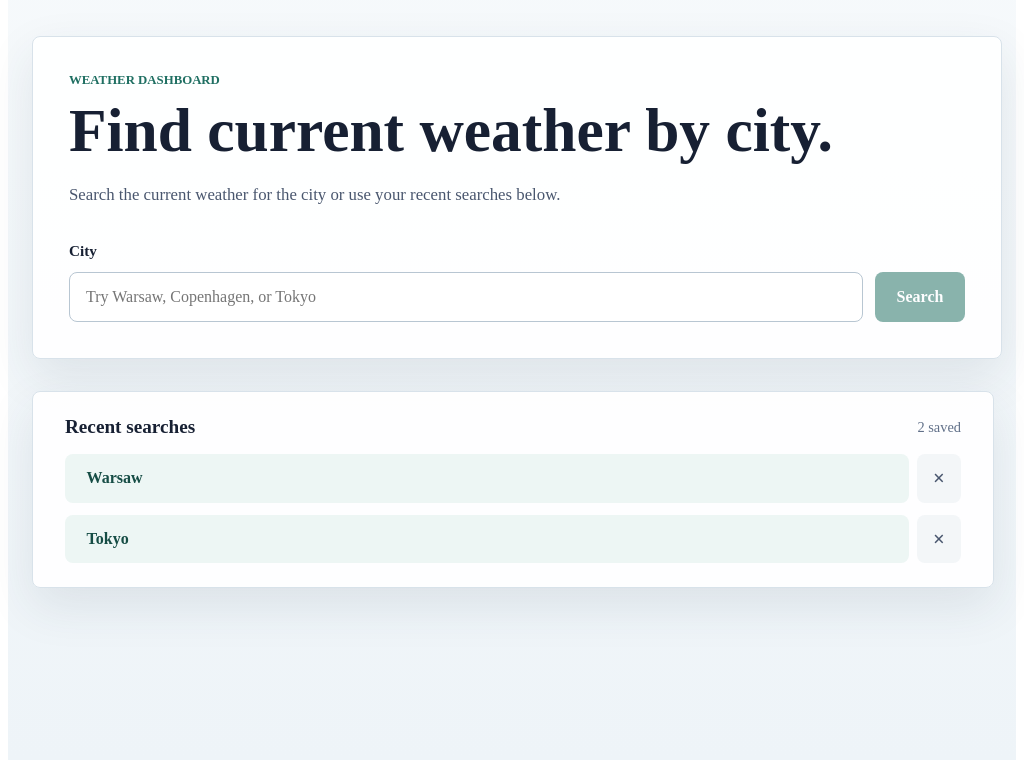
Test: HomePageComponent › renders saved recent cities and removes one
The image size is (1024, 768).
(page scrolled)
What coordinates should you click on to do the following:
click the 1st button with class "remove-city"
I would click on:
 (939, 478)
Its box is [917,454,961,503].
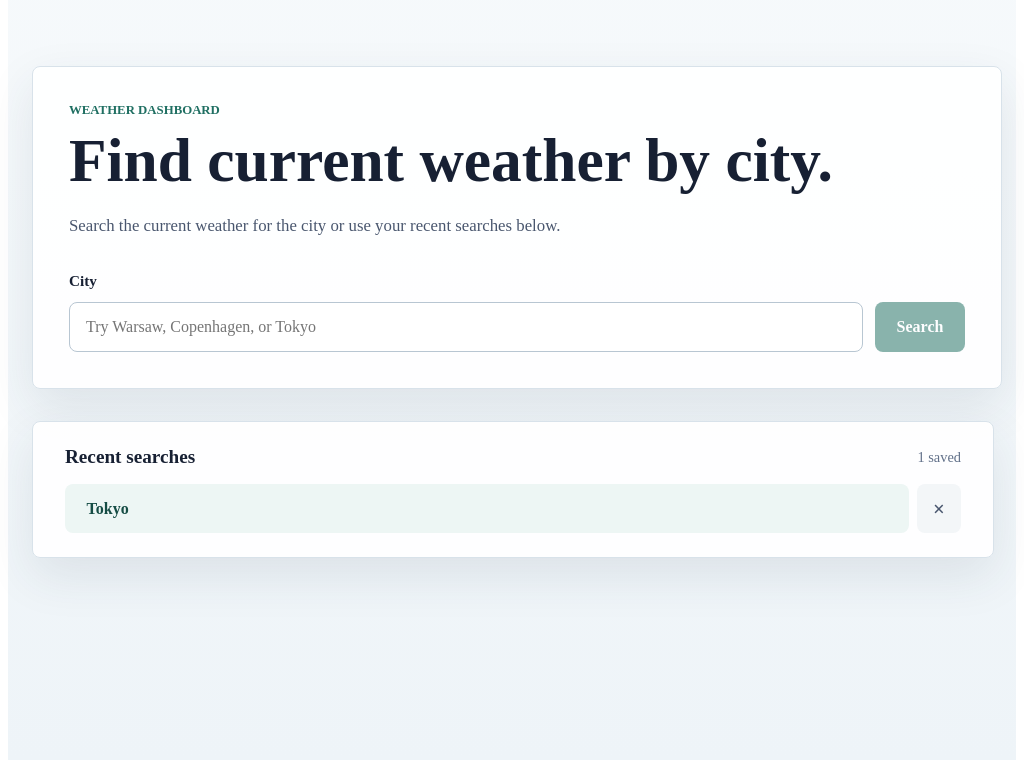
Expected: the text "Warsaw" is gone
